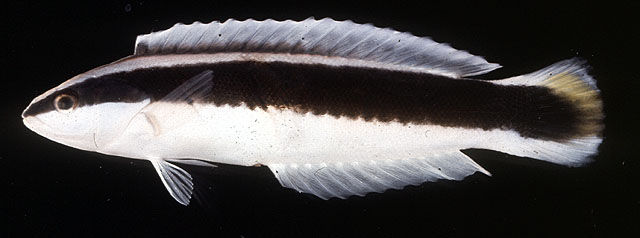fish: (21, 17, 604, 206)
